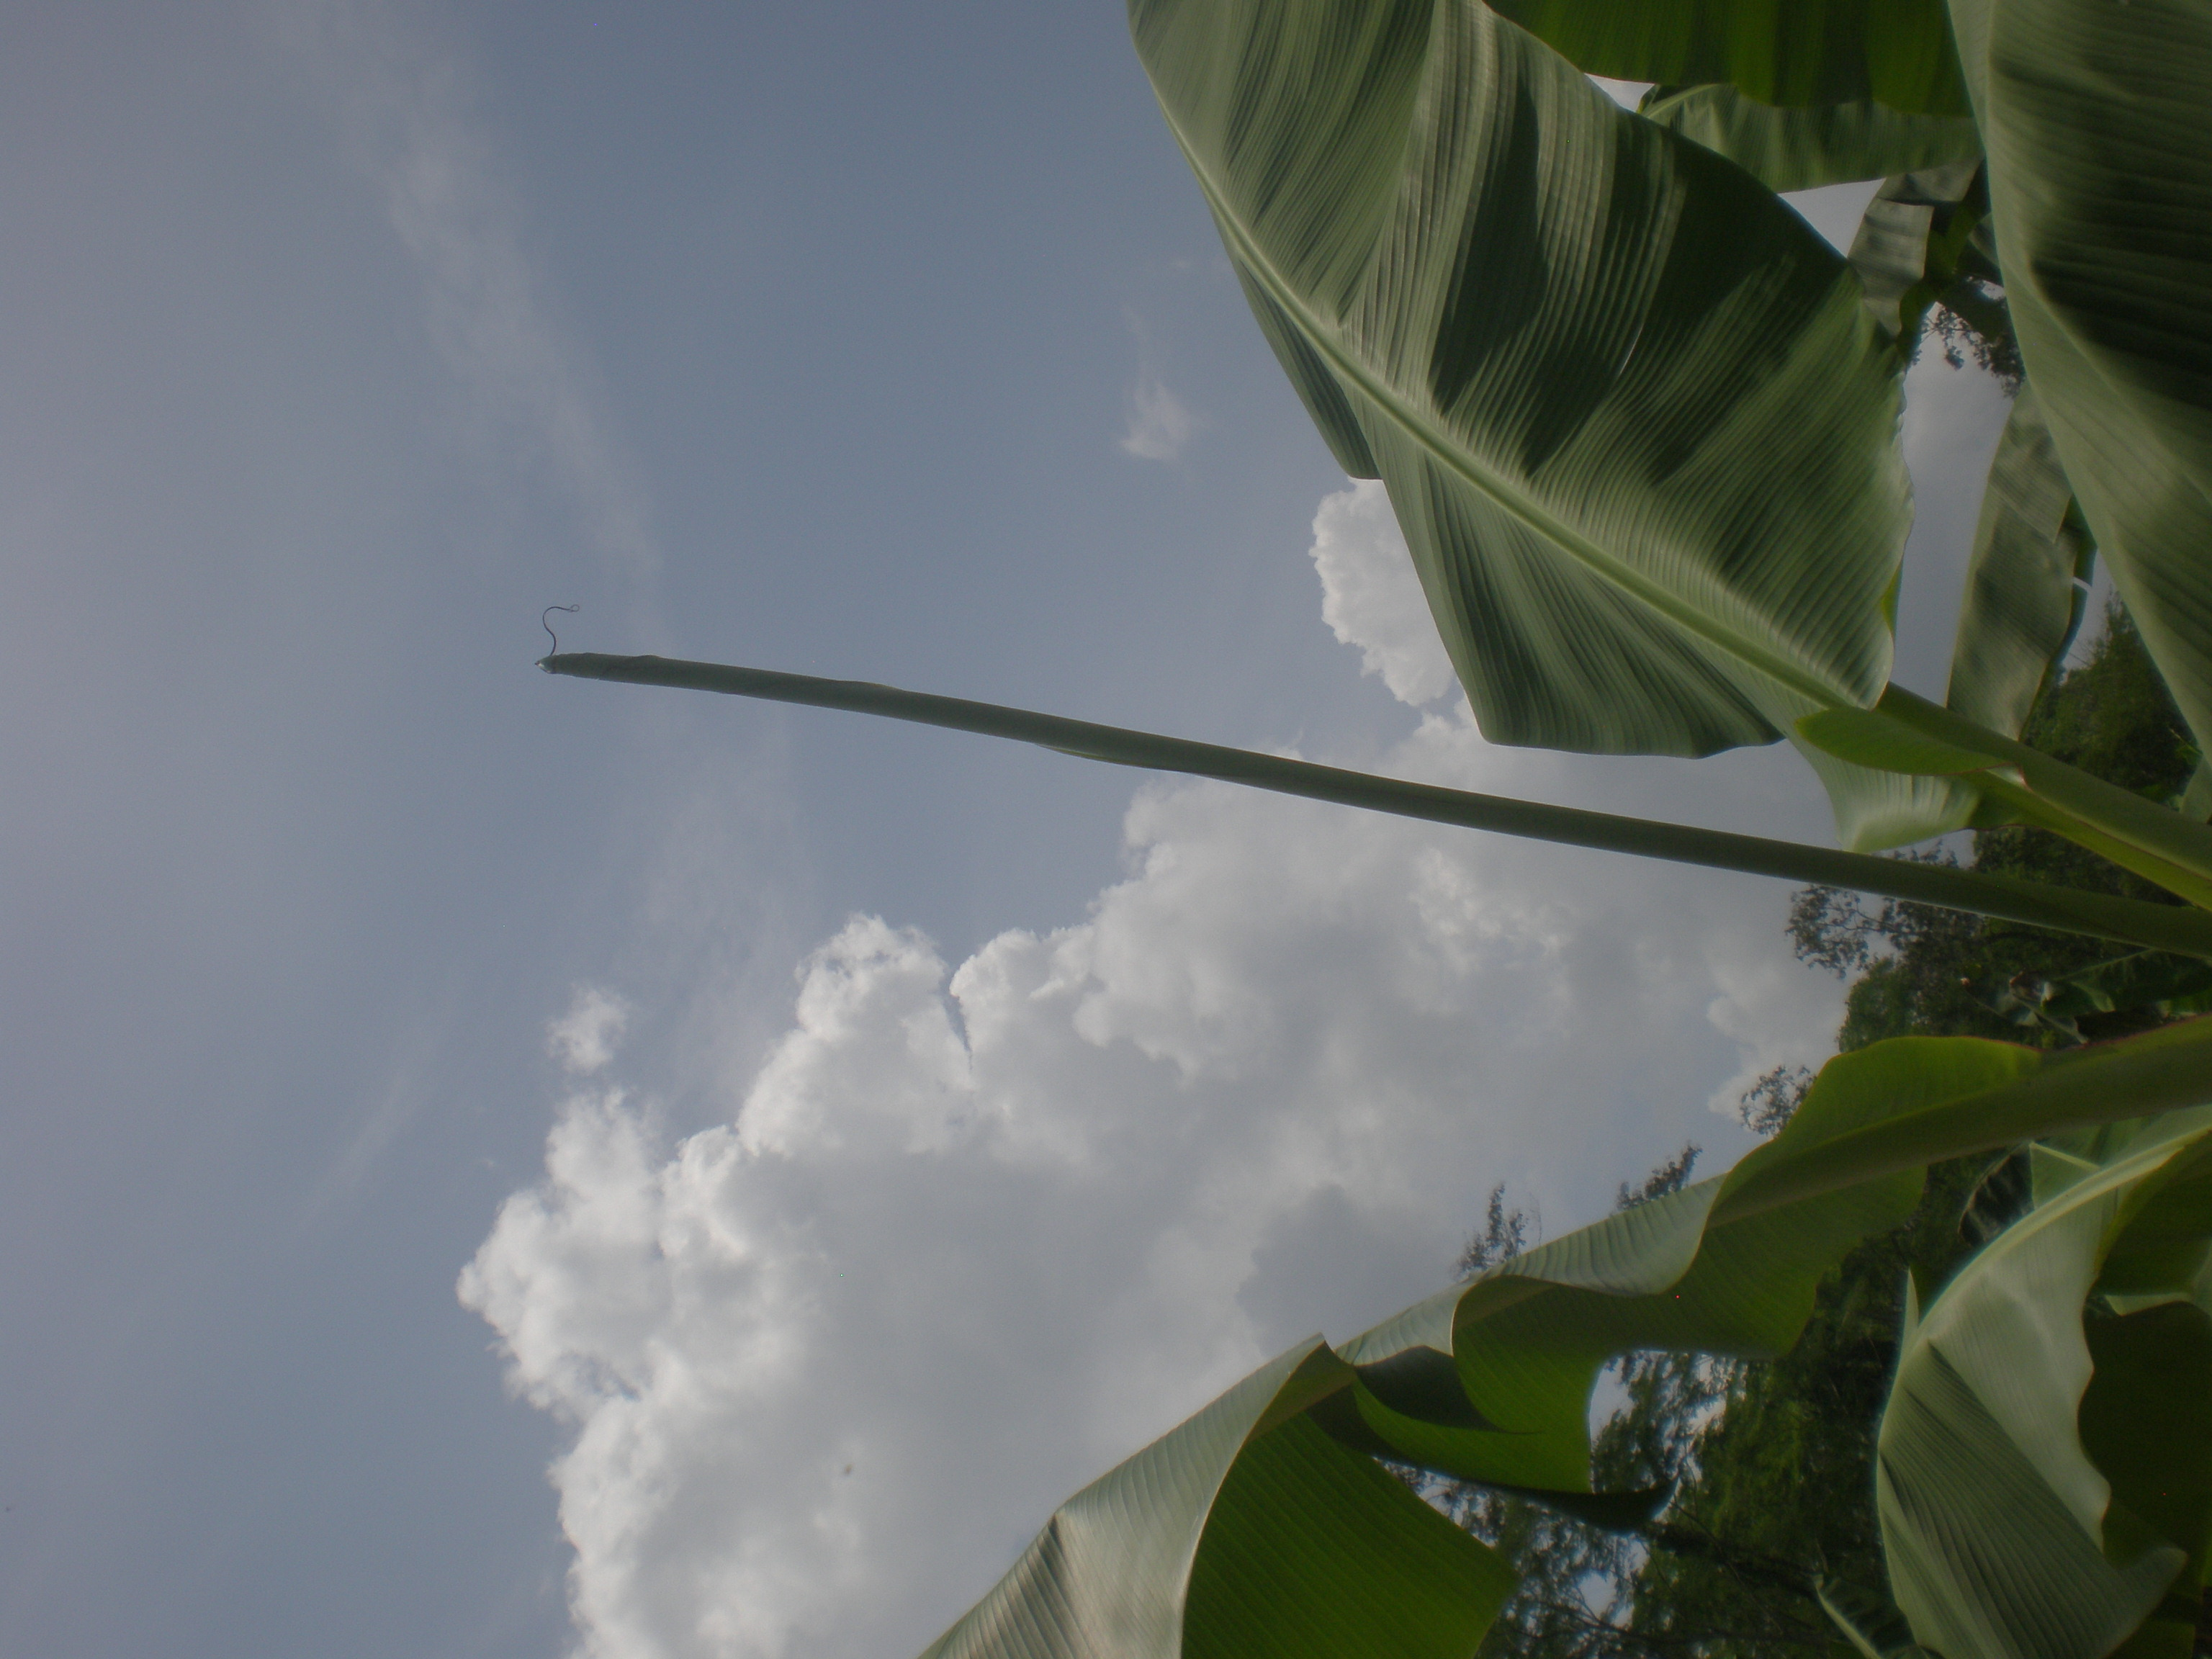candleleafs: (535, 596, 2212, 953)
